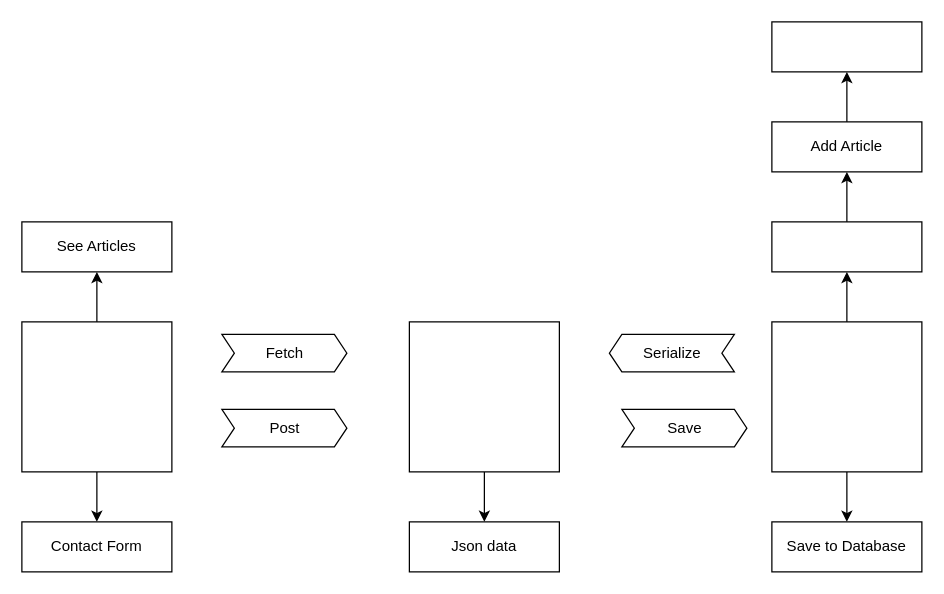
Some shapes in this 944 by 594 pixel diagram are drawn without their labels. The centre of each missing label's shape, as x and y in pixels:
Admin interface: the point at 846,246
Backend: the point at 846,396
Frontend: the point at 96,396
REST API: the point at 483,396
See Contact: the point at 846,46
